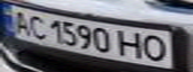0: (93, 25, 115, 55)
1: (45, 17, 63, 44)
5: (57, 19, 78, 47)
9: (75, 22, 93, 51)
A: (6, 8, 36, 36)
C: (24, 12, 51, 41)
H: (115, 29, 148, 60)
O: (139, 33, 172, 63)
